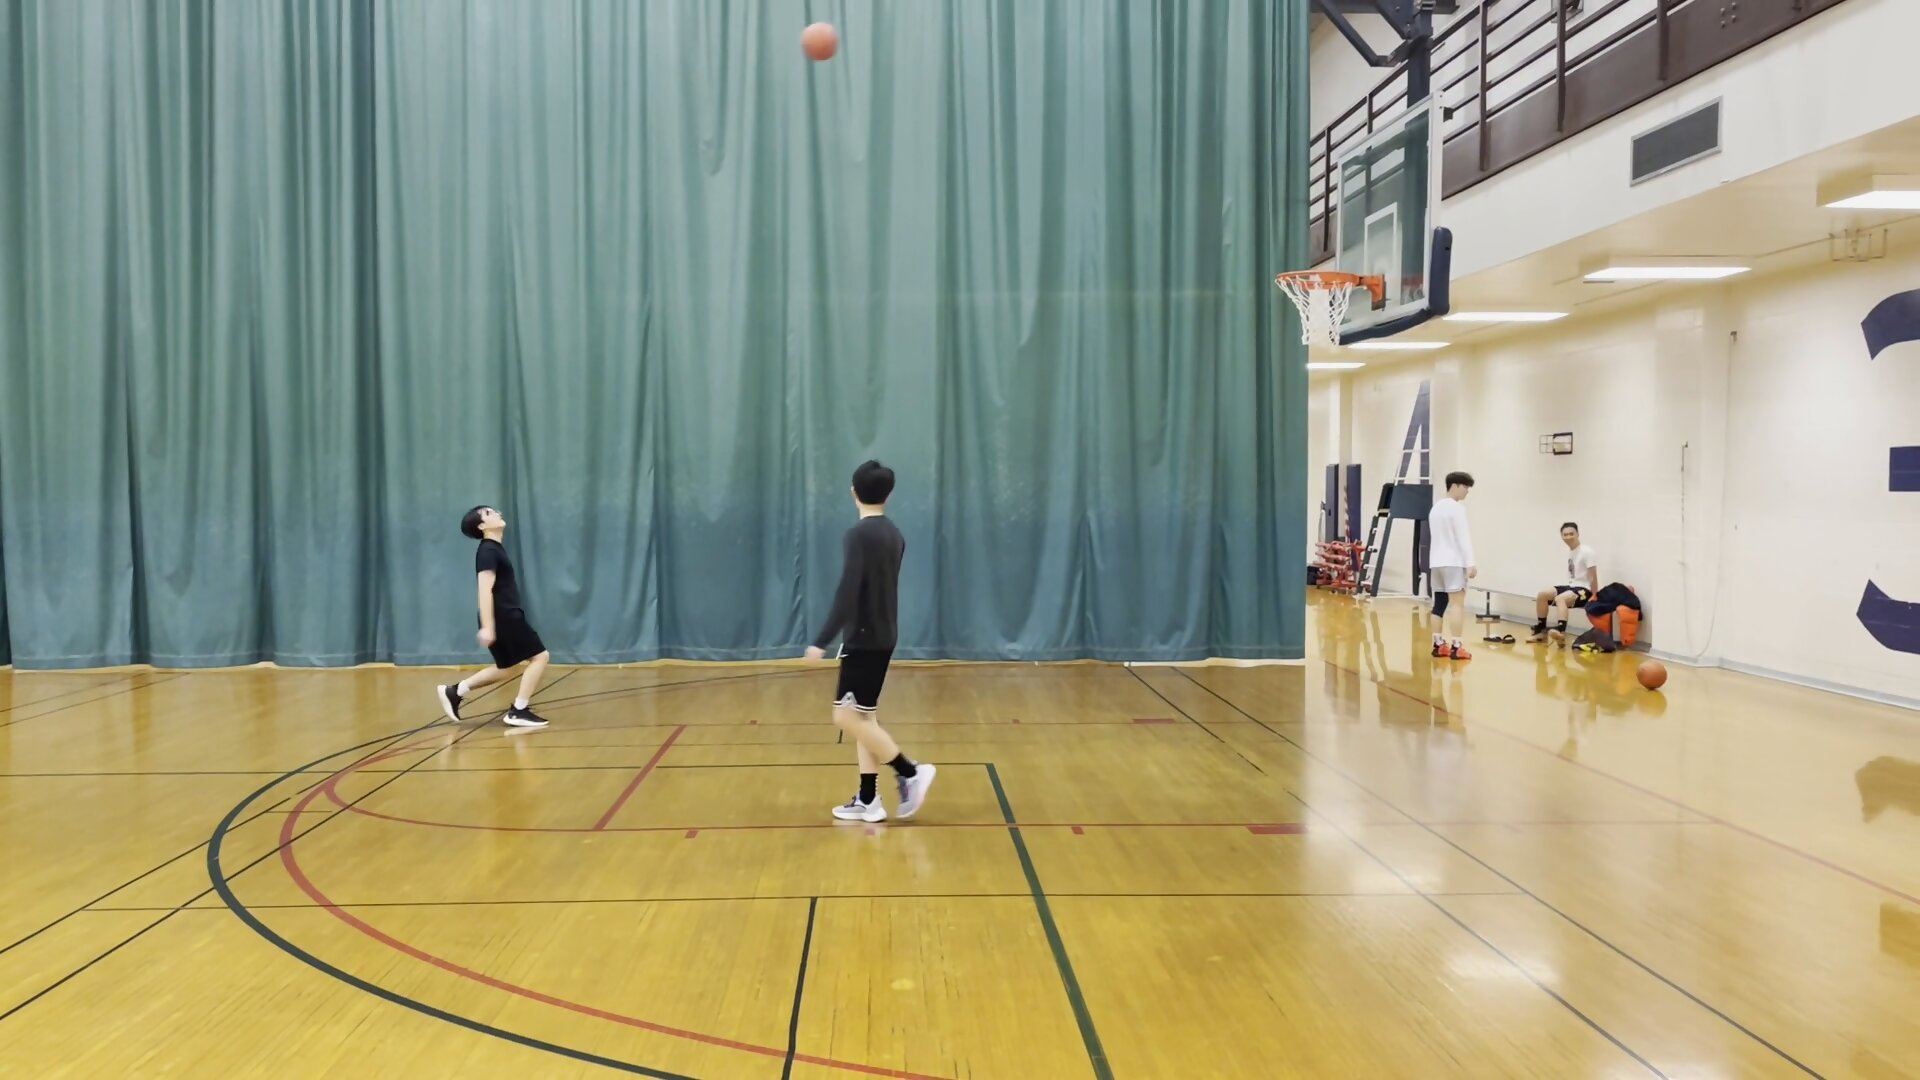ball: (798, 24, 843, 63), (1633, 657, 1668, 693)
net: (1294, 317, 1350, 353)
player: (806, 458, 939, 832), (441, 502, 555, 738), (1419, 470, 1482, 667), (1533, 520, 1597, 653)
rim: (1273, 267, 1363, 292)
